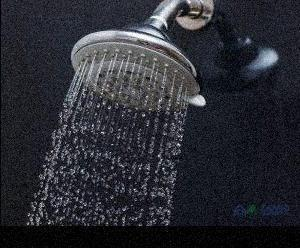Ducha: (1, 0, 300, 225)
